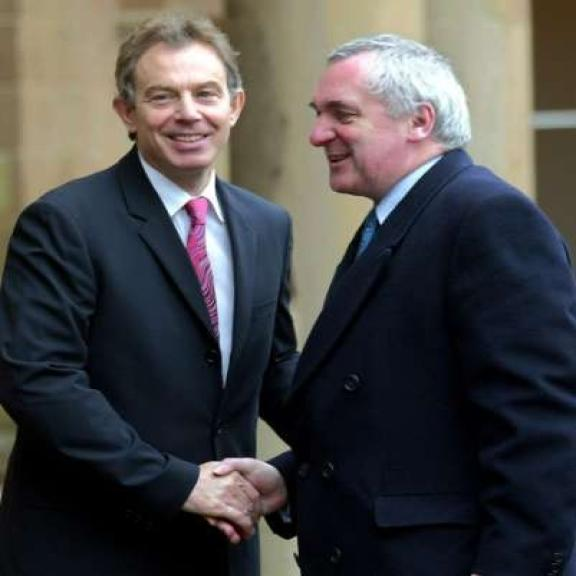face: (311, 56, 441, 193), (116, 47, 247, 172)
